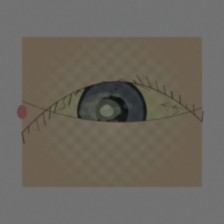corneal_ulcer: (78, 88, 131, 131)
